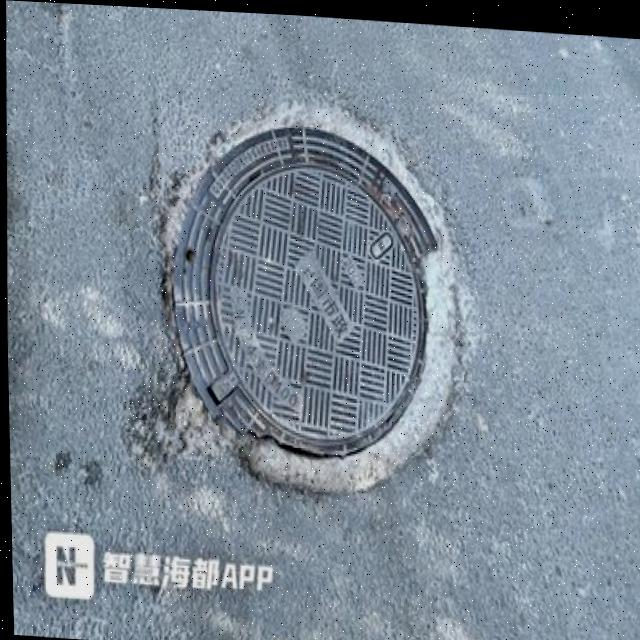manhole: (136, 100, 457, 496)
